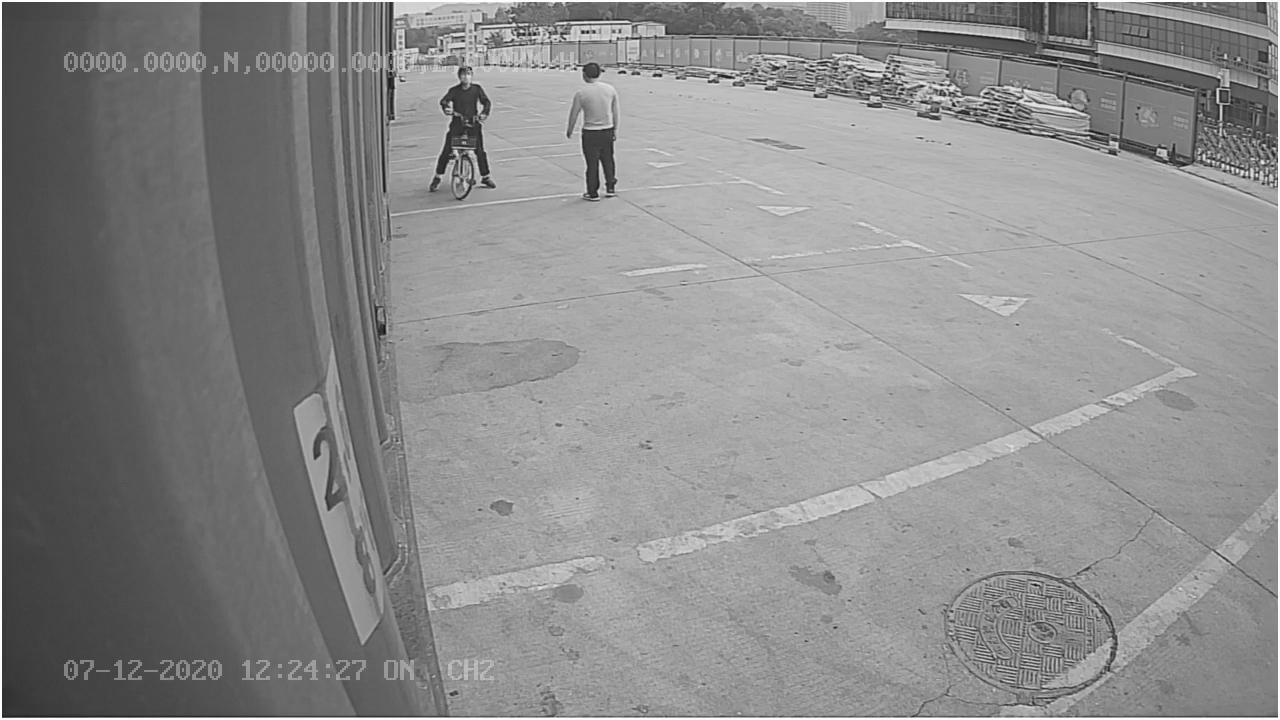person: (562, 58, 627, 206)
